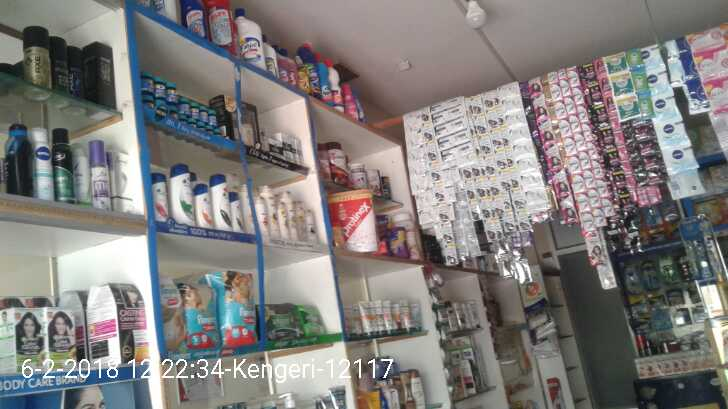beauty: (255, 180, 320, 241), (206, 169, 250, 229), (165, 159, 190, 222), (189, 181, 214, 225), (149, 175, 169, 215)
pharmacy: (216, 262, 258, 343), (185, 273, 221, 352), (156, 278, 190, 352), (290, 294, 329, 335), (259, 302, 302, 339)
